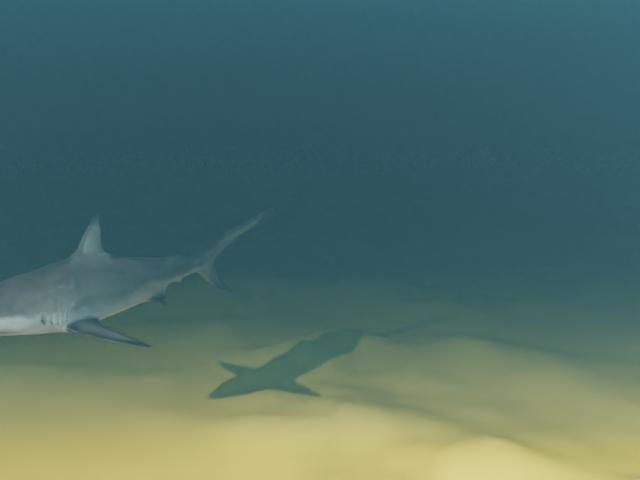Carribean Shark.001: (0, 208, 275, 347)
